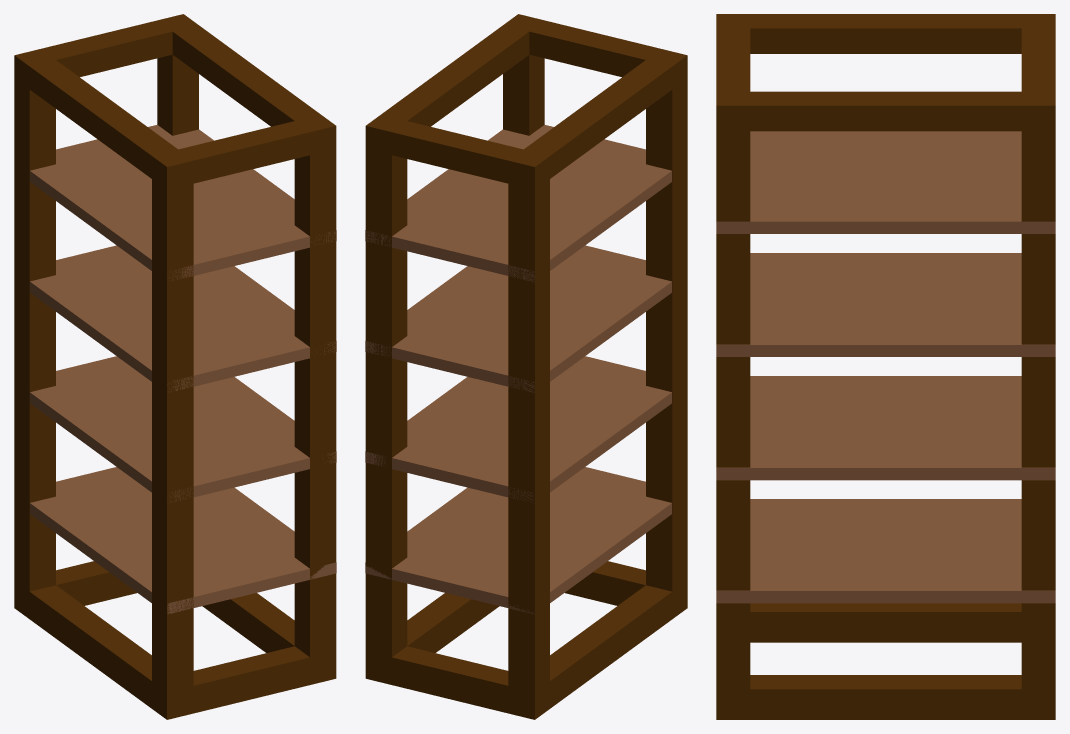
File: groterstellagekast.fbx
The picture shows the model from 3 angles, left to right: view 1: azimuth 30°, elevation 25°; view 2: azimuth 150°, elevation 25°; view 3: azimuth 270°, elevation 25°; orthographic projection. The views are drawn at different scales.
Parts seen in each view (by area): view 1: kast, pCube5, pCube3, pCube4, pCube2; view 2: kast, pCube3, pCube4, pCube5, pCube2; view 3: kast, pCube4, pCube5, pCube3, pCube2.
Part boxes in pixels (x1,y1,x2,y2): kast: (14, 14, 336, 719); pCube5: (30, 467, 336, 614); pCube3: (30, 245, 336, 391); pCube4: (30, 356, 336, 501); pCube2: (30, 125, 336, 280); kast: (365, 14, 687, 719); pCube3: (365, 245, 671, 392); pCube4: (365, 356, 671, 502); pCube5: (365, 467, 671, 614); pCube2: (365, 125, 671, 282); kast: (716, 14, 1055, 719); pCube4: (716, 376, 1055, 480); pCube5: (716, 499, 1055, 603); pCube3: (716, 253, 1055, 356); pCube2: (716, 131, 1055, 233).
Size of the model in its own units: 64.07 by 200 by 100.
